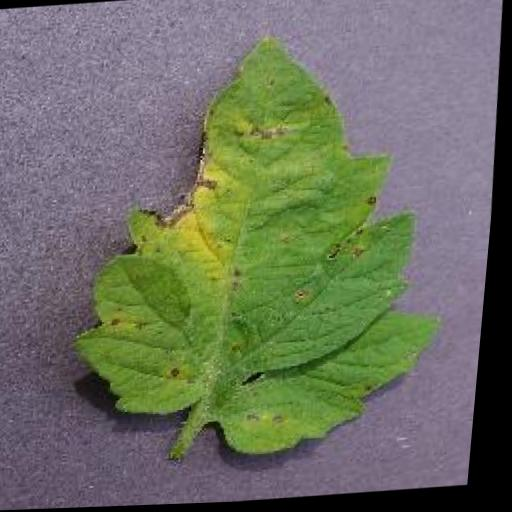Septoria: (66, 27, 476, 472)
